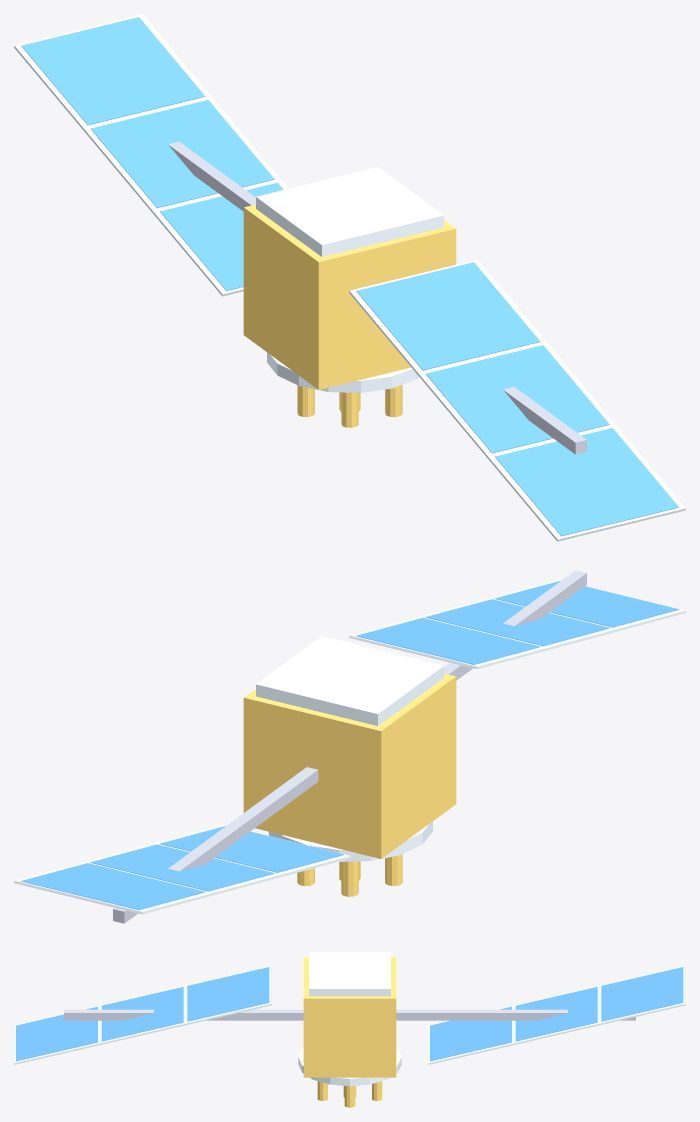
The model's file is gnss.glb.
3 renders of one model, top to bottom at view 1: azimuth 30°, elevation 25°; view 2: azimuth 150°, elevation 25°; view 3: azimuth 270°, elevation 25°, orthographic. The views are drawn at different scales.
Visible parts, largest first — view 1: Spacecraft; view 2: Spacecraft; view 3: Spacecraft.
Part boxes in pixels (x1,y1,x2,y2): Spacecraft: (14, 14, 685, 541); Spacecraft: (14, 570, 685, 923); Spacecraft: (14, 952, 685, 1107).
Bounding box in the file's own units: 3.8 × 5.1 × 24.67.
